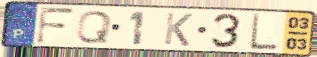1: (128, 11, 146, 47)
3: (209, 12, 245, 50)
F: (35, 6, 77, 46)
K: (161, 11, 194, 48)
L: (248, 13, 279, 52)
Q: (74, 10, 114, 45)
